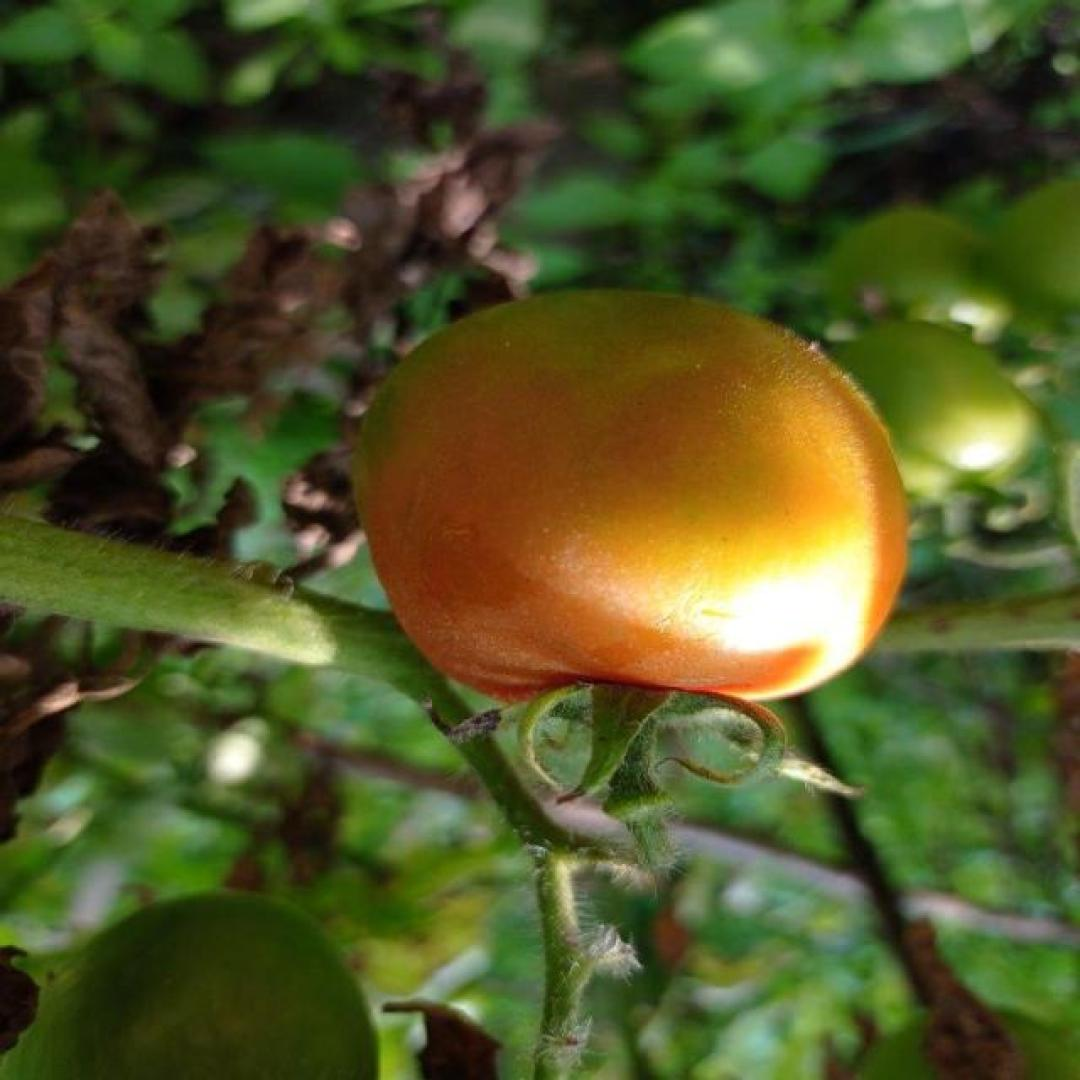setengah_matang: (354, 285, 918, 722)
